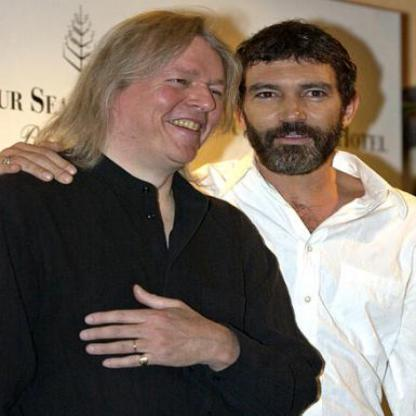face: (122, 20, 241, 167), (242, 23, 347, 176)
